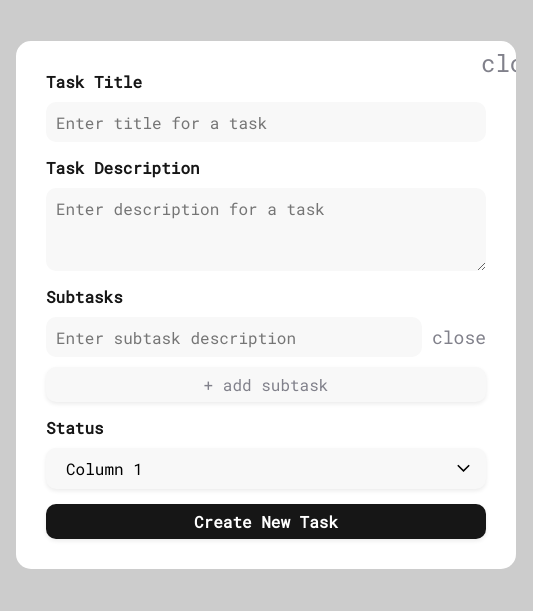
Test: Task Form Modal › adds new subtask correctly
Click the button with class "subtasks__add-btn" at coordinates (266, 384), box [46, 367, 486, 402]
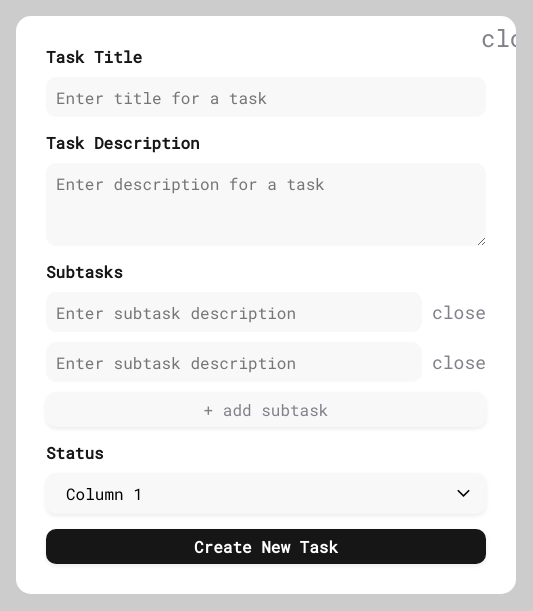
Result: the number of elements with class "task-form__subtask" is 2 at [46, 292, 486, 332]; [46, 342, 486, 382]
